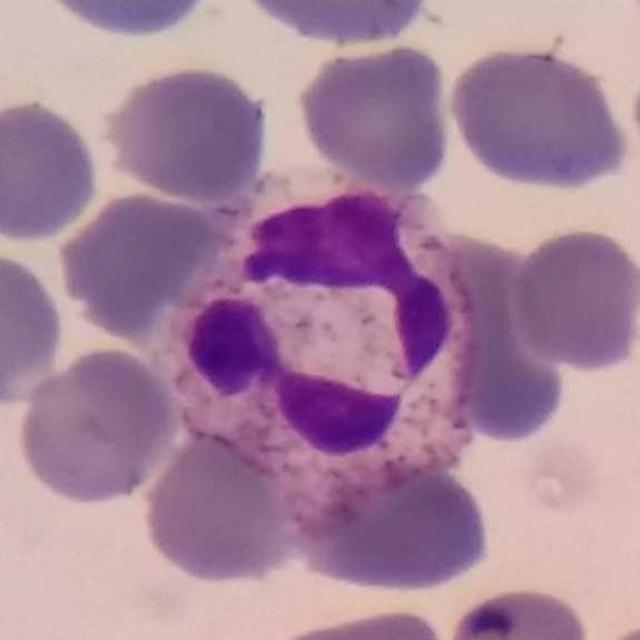Neutrophil: (147, 174, 506, 516)
RBC: (423, 232, 575, 448), (289, 450, 500, 598), (442, 31, 637, 187), (11, 342, 182, 508), (137, 424, 300, 588), (52, 186, 225, 340), (97, 60, 276, 207), (294, 40, 456, 192), (508, 222, 640, 376), (0, 95, 104, 246), (0, 243, 69, 410), (226, 0, 444, 50), (446, 582, 599, 640), (27, 0, 230, 43), (253, 603, 456, 640)
